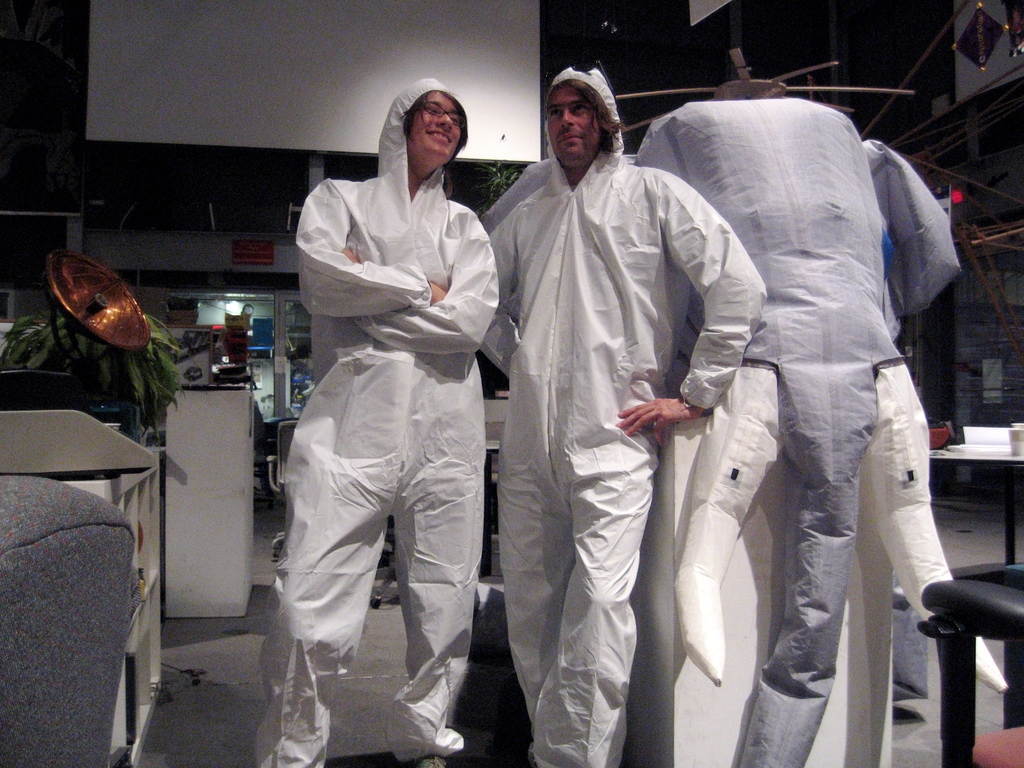Person: (253, 75, 500, 768)
